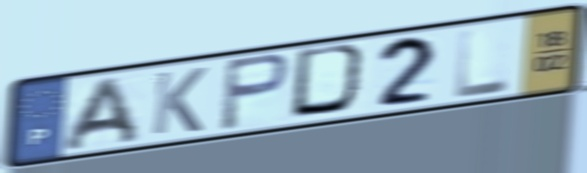2: (374, 32, 440, 112)
A: (57, 74, 144, 155)
D: (286, 41, 375, 121)
K: (148, 64, 211, 138)
L: (452, 25, 512, 102)
P: (216, 51, 293, 134)
